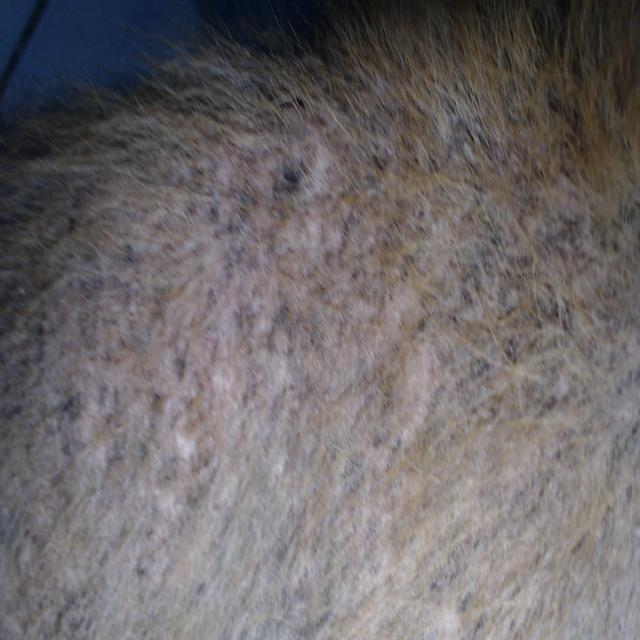demodicosis: (56, 146, 518, 518)
